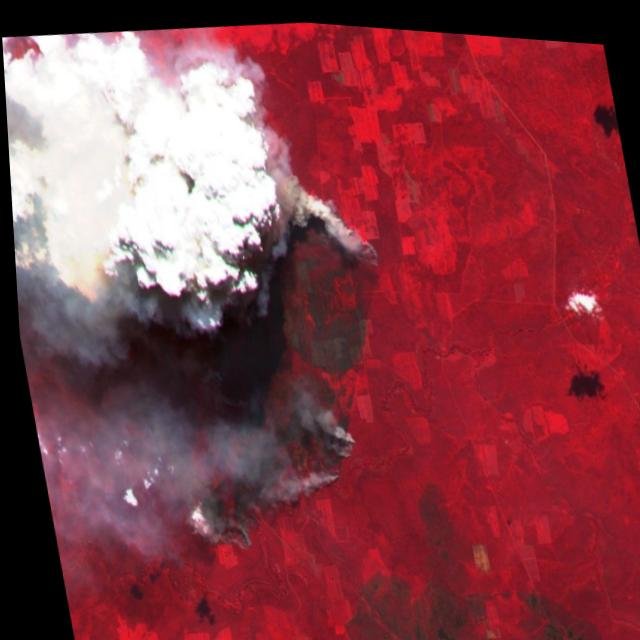fire: (127, 157, 434, 571)
